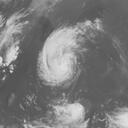cyclone: (38, 27, 80, 86)
